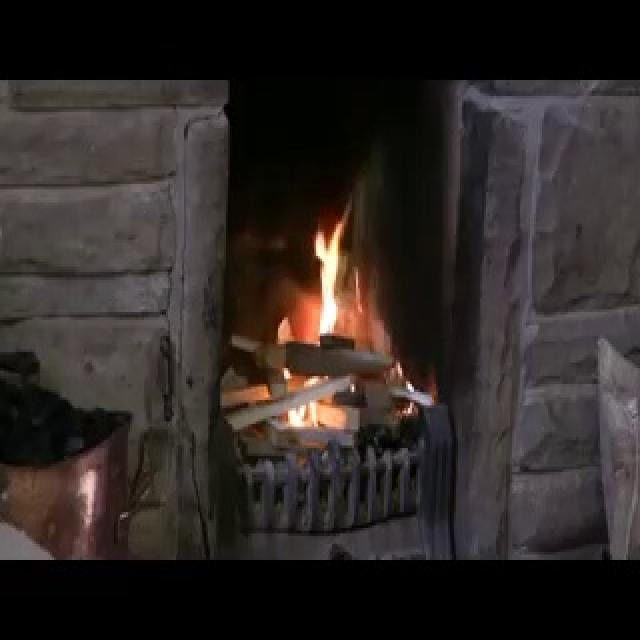fire: (287, 218, 365, 349)
